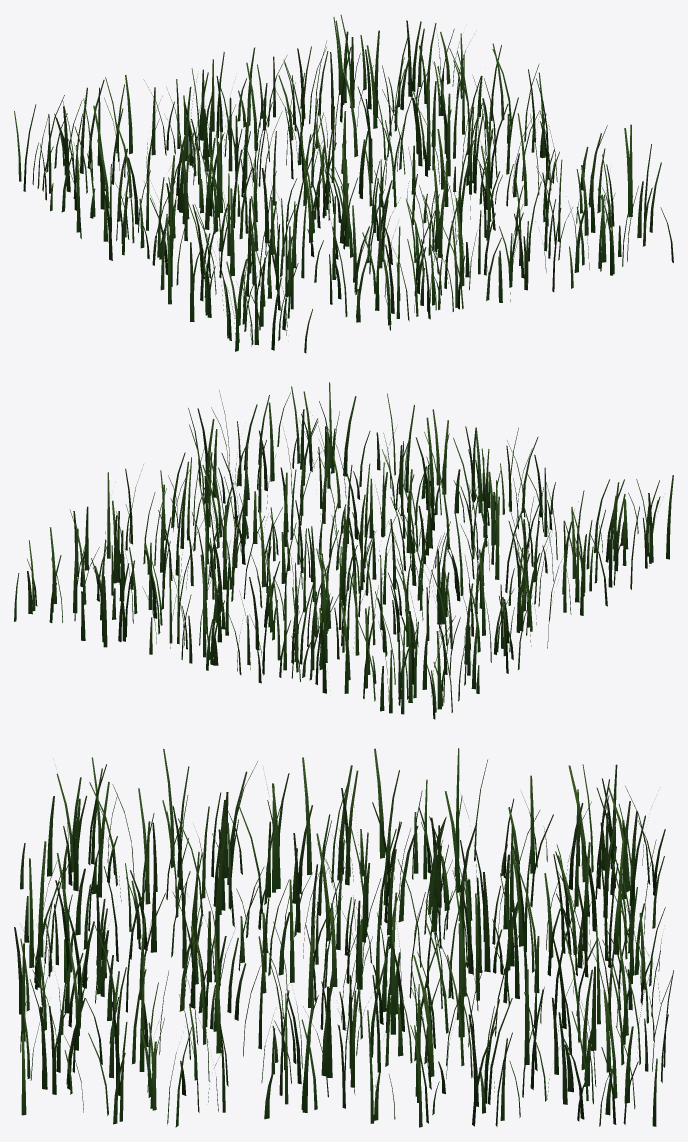
Rendered from Turf_Sedge_v4.glb.
3 renders of one model, top to bottom at view 1: azimuth 30°, elevation 25°; view 2: azimuth 150°, elevation 25°; view 3: azimuth 270°, elevation 25°, orthographic. The views are drawn at different scales.
Visible parts, largest first — view 1: Turf_Sedge_v4; view 2: Turf_Sedge_v4; view 3: Turf_Sedge_v4.
Boxes of the visible parts, box(x1,y1,x2,y2) form: Turf_Sedge_v4: box(14, 14, 673, 353); Turf_Sedge_v4: box(14, 382, 673, 719); Turf_Sedge_v4: box(14, 748, 673, 1127).
Size of the model in its own units: 1.27 by 0.22 by 1.25.
